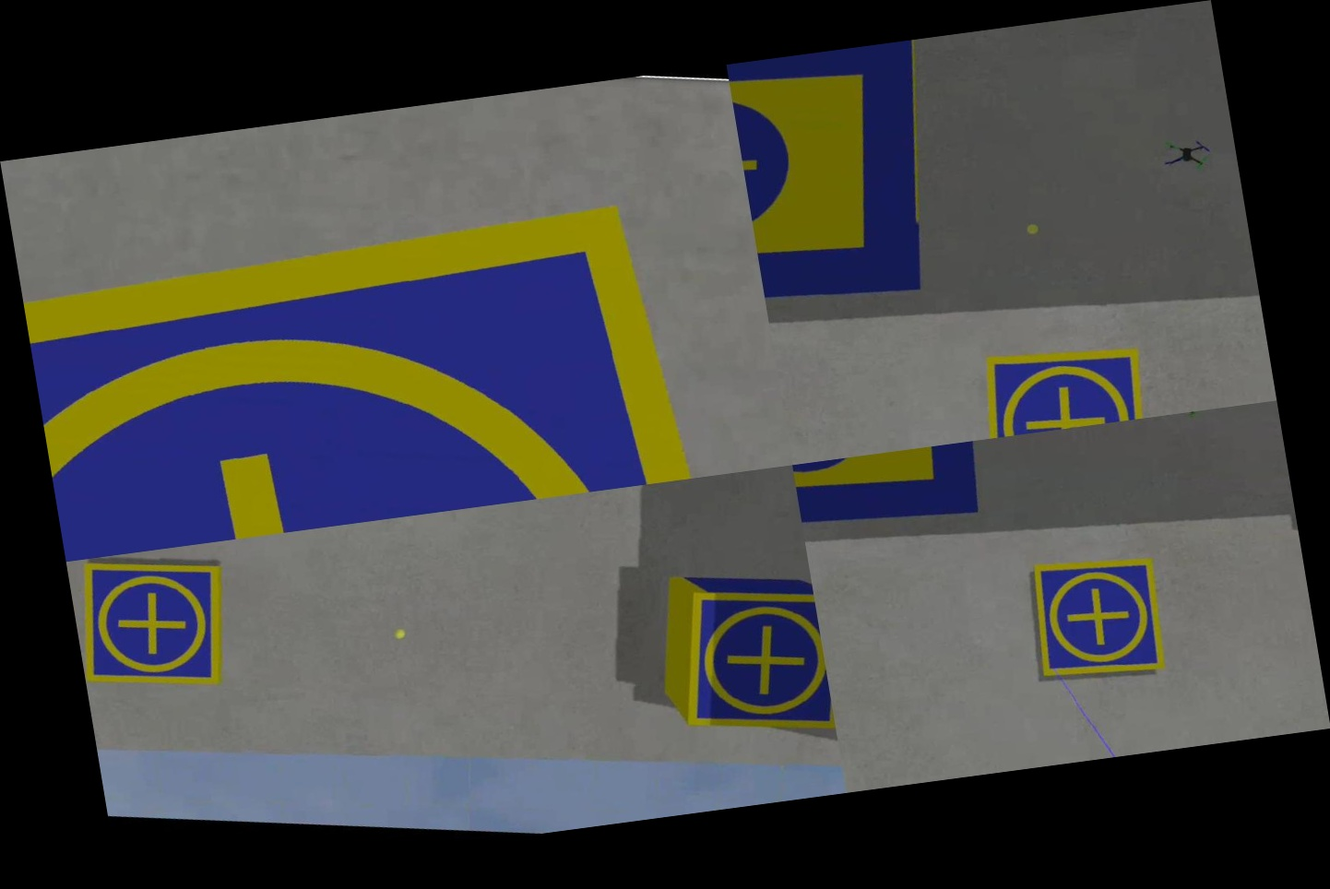large_base: (727, 37, 982, 353)
small_base: (0, 65, 792, 562), (660, 572, 837, 753), (66, 540, 248, 706), (1006, 536, 1188, 702), (952, 317, 1165, 442)
